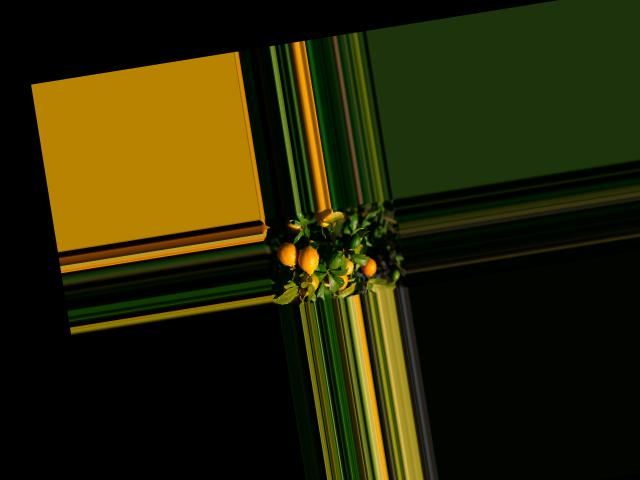lemon: (358, 251, 382, 279)
